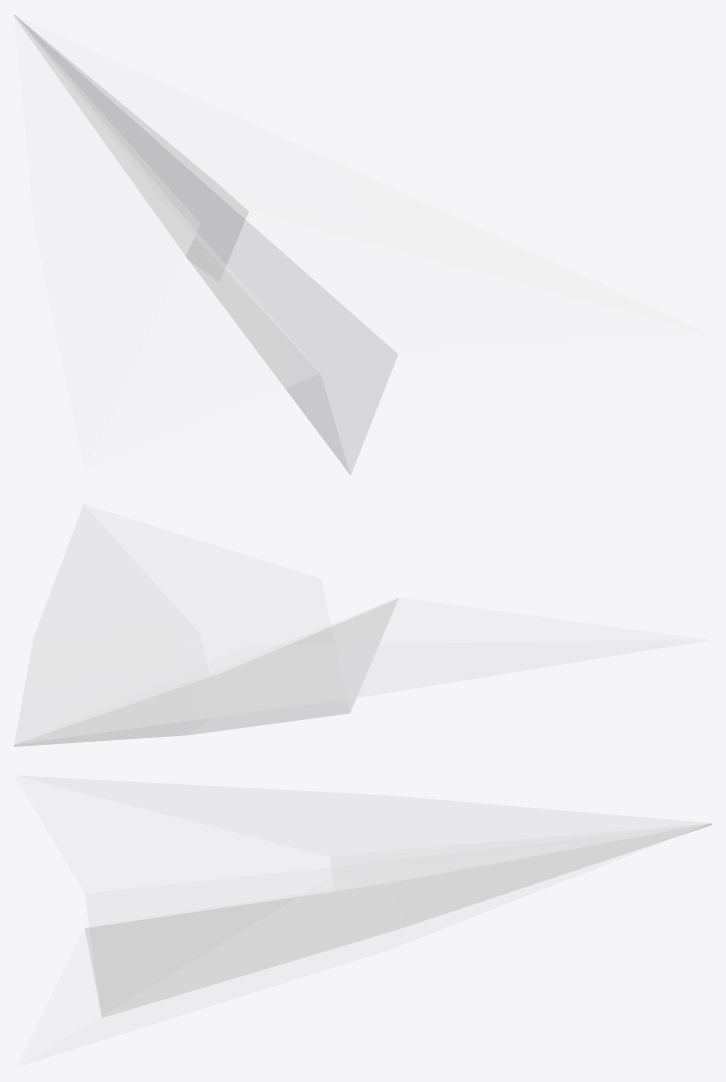
File: PBR - Metallic Roughness Alpha-blend.glb
The picture shows the model from 3 angles, top to bottom: view 1: azimuth 30°, elevation 25°; view 2: azimuth 150°, elevation 25°; view 3: azimuth 270°, elevation 25°; orthographic projection. The views are drawn at different scales.
Parts seen in each view (by area): view 1: PaperAirplane group; view 2: PaperAirplane group; view 3: PaperAirplane group.
Part boxes in pixels (<box>): PaperAirplane group: <box>14,14,710,474</box>; PaperAirplane group: <box>14,504,709,746</box>; PaperAirplane group: <box>14,775,711,1066</box>.
Bounding box in the file's own units: 1.5 × 0.4909 × 1.59.
1 material, 1 textured.
